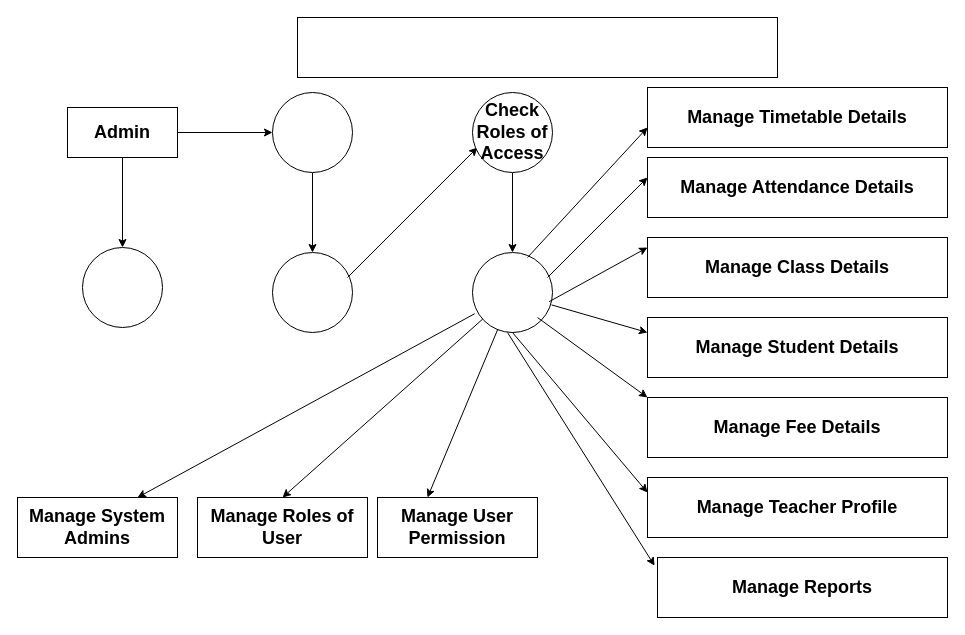
Some shapes in this 965 by 635 pixel diagram are drawn without their labels. Each missing label, with the centre of its shape:
"Check Credentials" goes at (x=312, y=292).
"Forgot Password" goes at (x=122, y=287).
"Login to System" goes at (x=312, y=132).
"Manage Modules" goes at (x=512, y=292).
"Student Information System" goes at (x=537, y=47).
